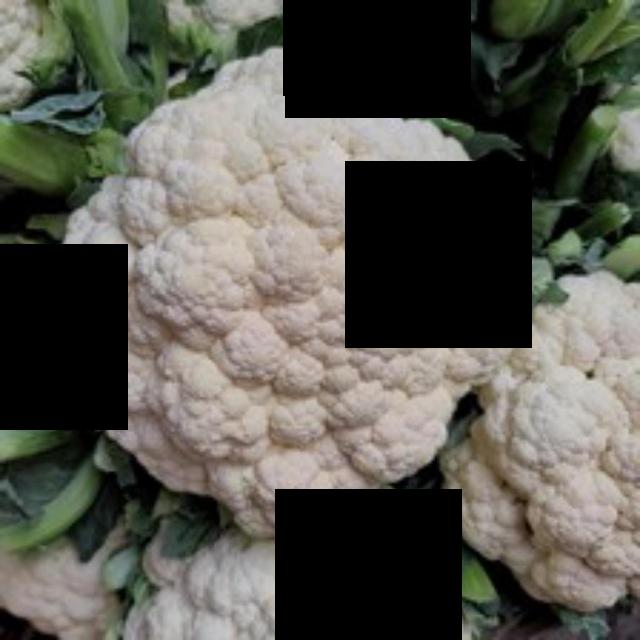cauliflower: (58, 36, 527, 541)
